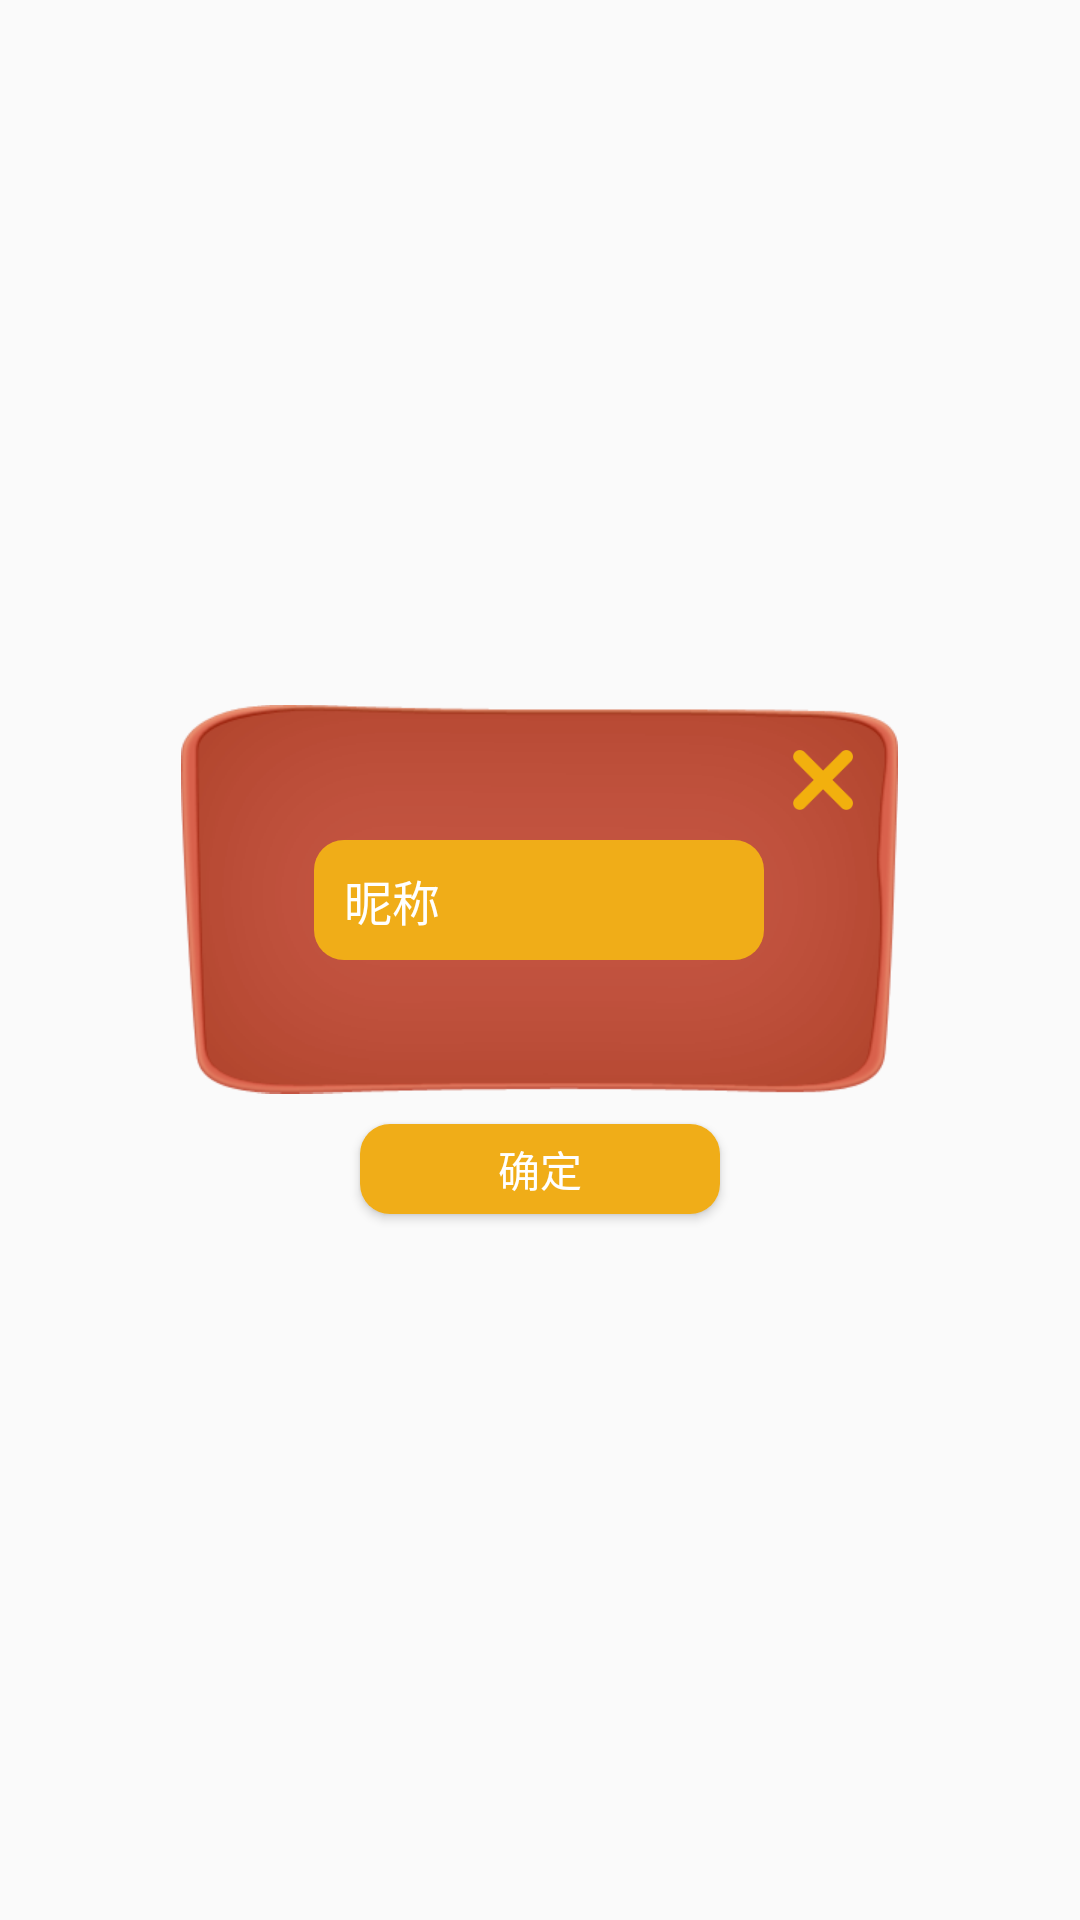

Icons on this 1080*1920 Android screen, each with its box as Rect(x1, y1, x2, y2):
close: Rect(793, 750, 853, 810)
